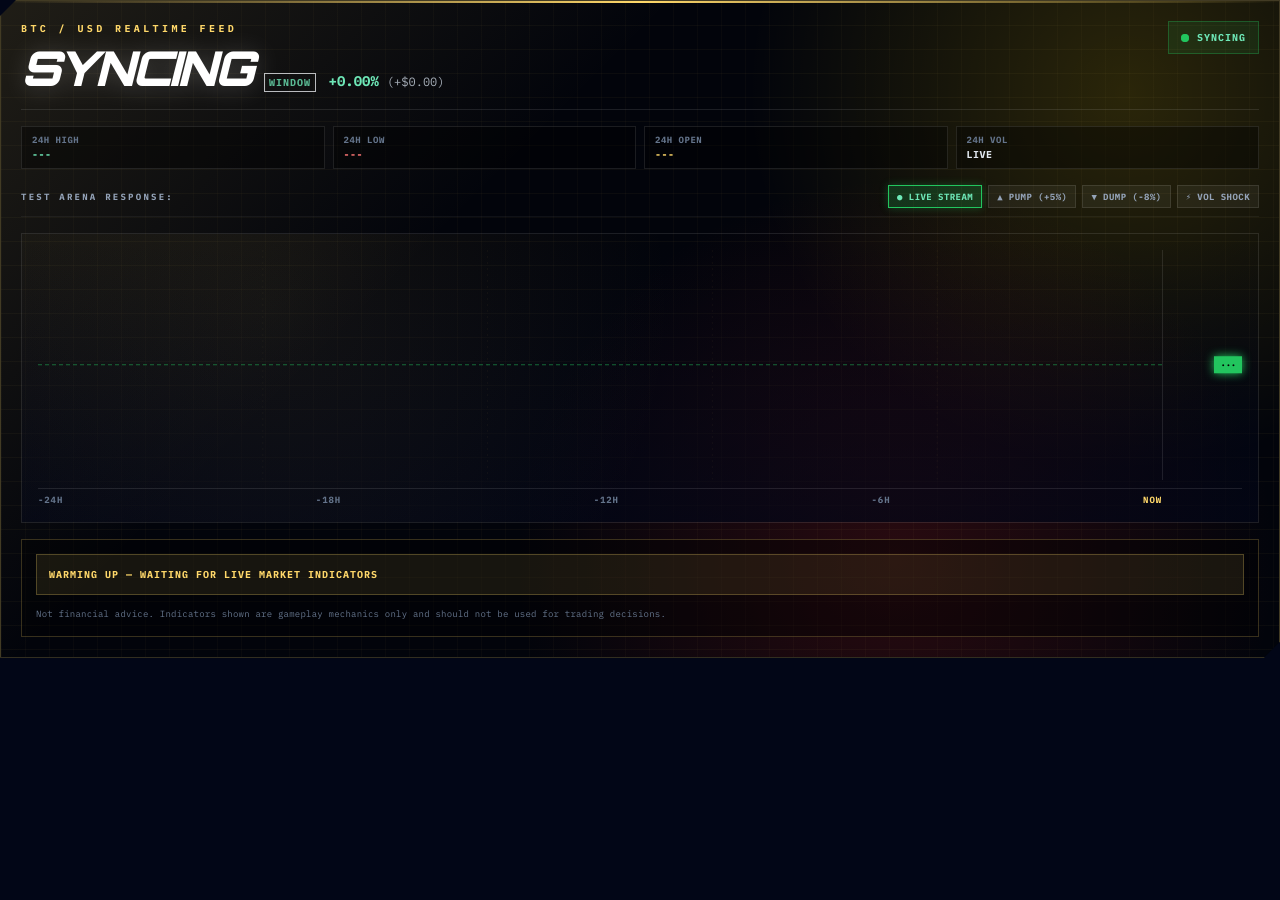
Test: LandingPriceFeed › updates state on market shock simulations
The image size is (1280, 900).
Click the button "▲ PUMP (+5%)": (1032, 196) [988,184,1076,208]
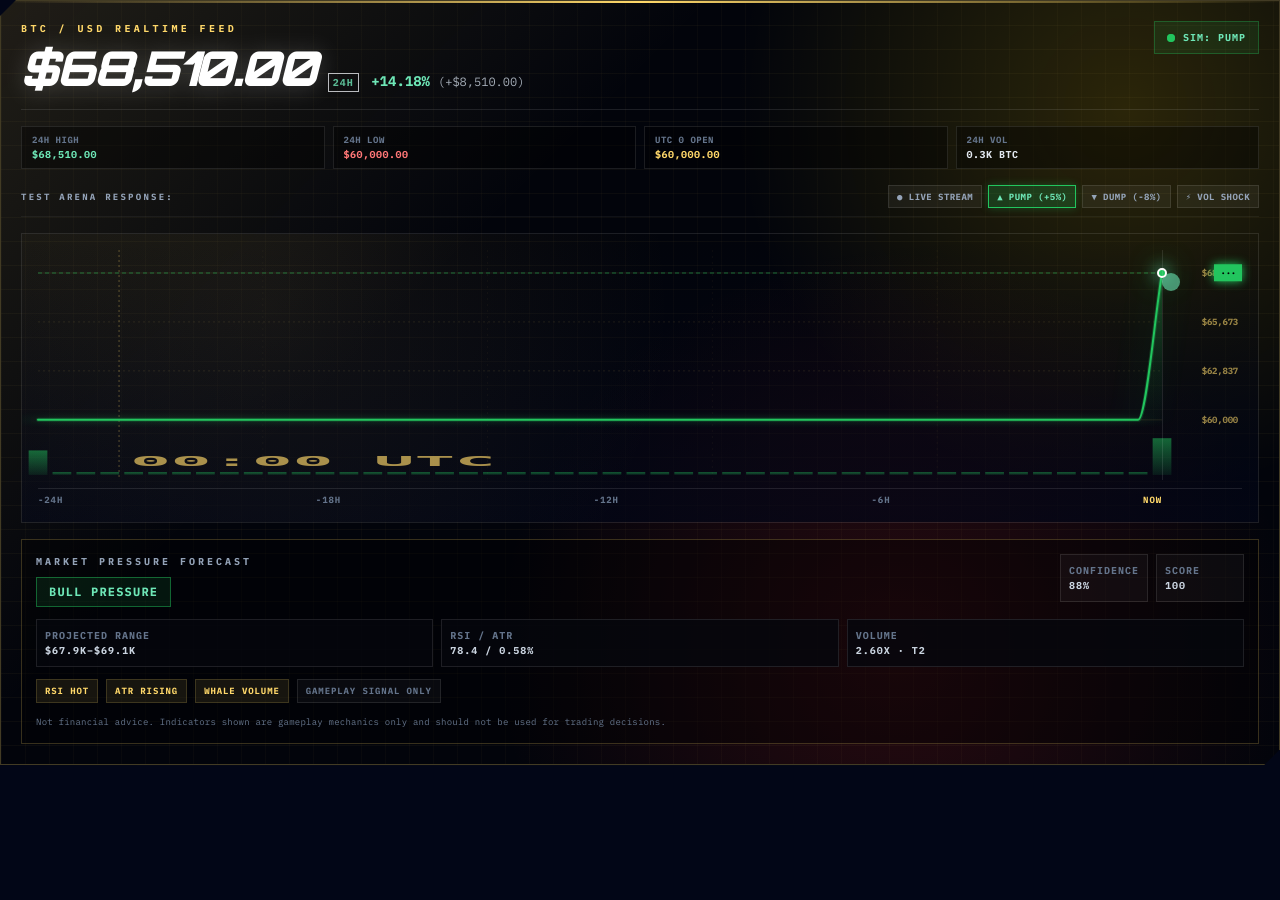
expect the text with test id "landing-feed-status" reads "SIM: PUMP": met, box [1183,31,1246,44]
expect the text with test id "landing-btc-price" no longer shows "SYNCING": met, box [21,44,316,92]
